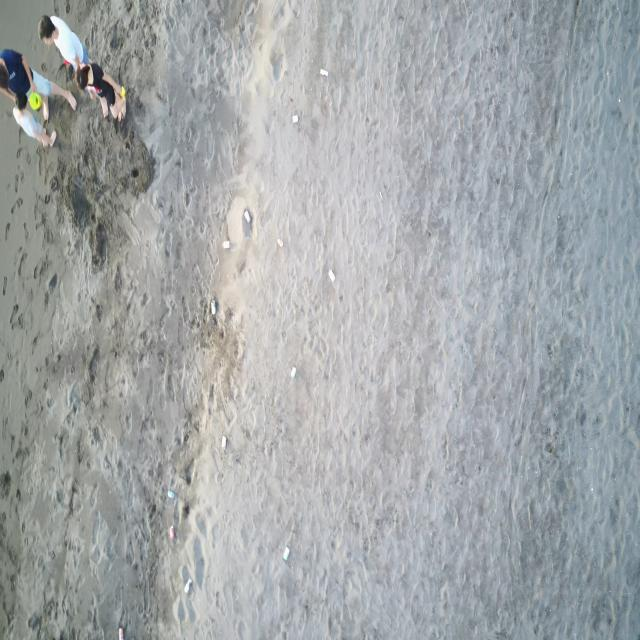Garbage: (241, 208, 251, 239), (28, 92, 42, 110), (183, 577, 192, 592), (168, 524, 175, 540), (209, 299, 216, 315), (327, 268, 335, 281), (243, 208, 251, 221), (167, 488, 176, 499), (281, 548, 288, 560), (220, 435, 226, 448), (289, 367, 296, 377), (221, 240, 230, 247), (276, 238, 283, 247), (118, 627, 123, 639), (292, 114, 298, 123), (320, 68, 327, 75), (377, 191, 382, 200)
